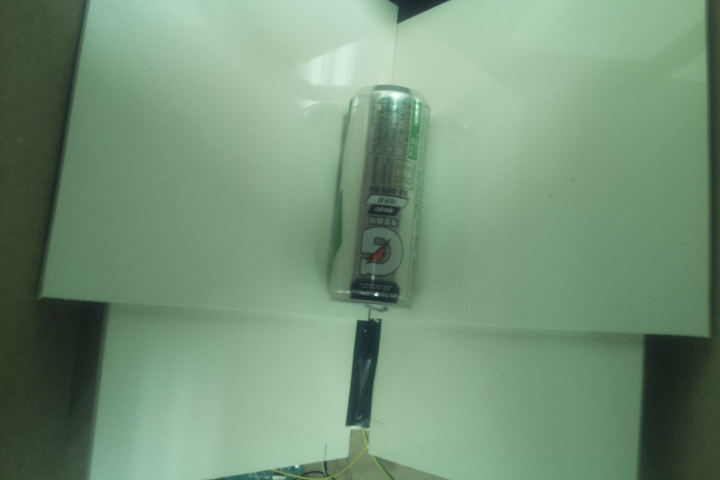can: (324, 80, 432, 314)
